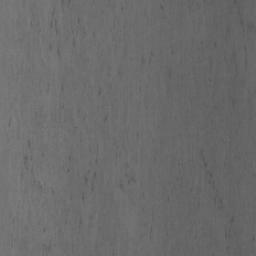Silk spot: (6, 0, 144, 256), (159, 79, 256, 209), (192, 0, 254, 77), (165, 216, 255, 256), (141, 46, 183, 80), (140, 208, 173, 240)
